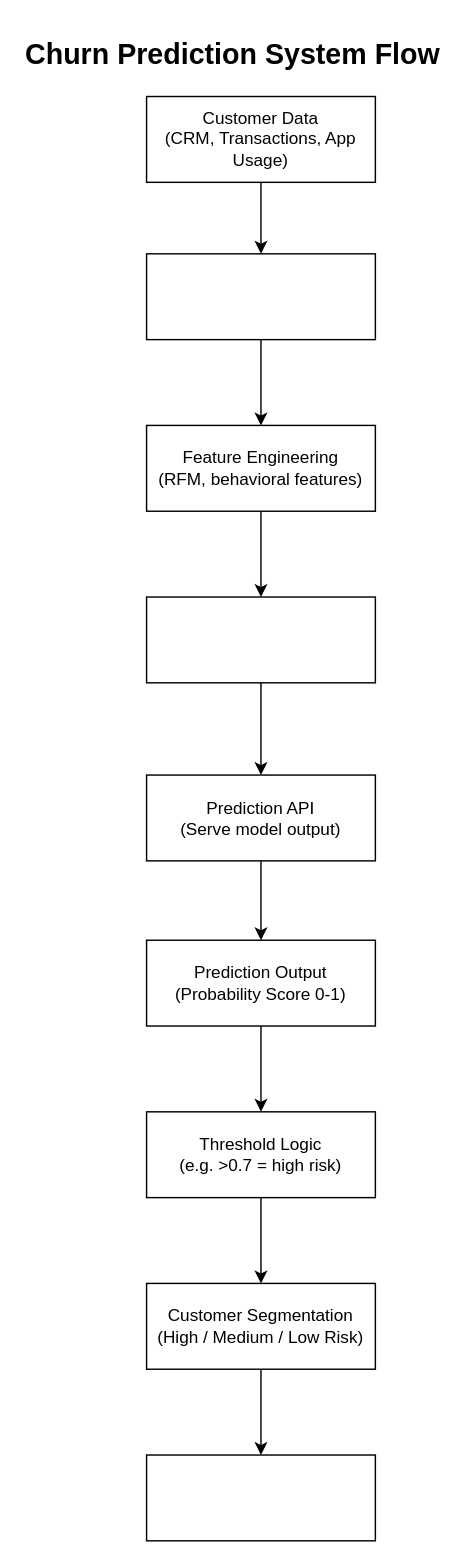
This 463x1566 diagram has some shape labels left out. The centre of each missing label's shape, as x and y in pixels:
"Business Actions (Discount, Campaign, Call)" belongs at pixel 260 1497.
"Churn Model (Logistic Regression / XGBoost)" belongs at pixel 260 639.
"Data Cleaning (Missing values, Outliers)" belongs at pixel 260 296.
